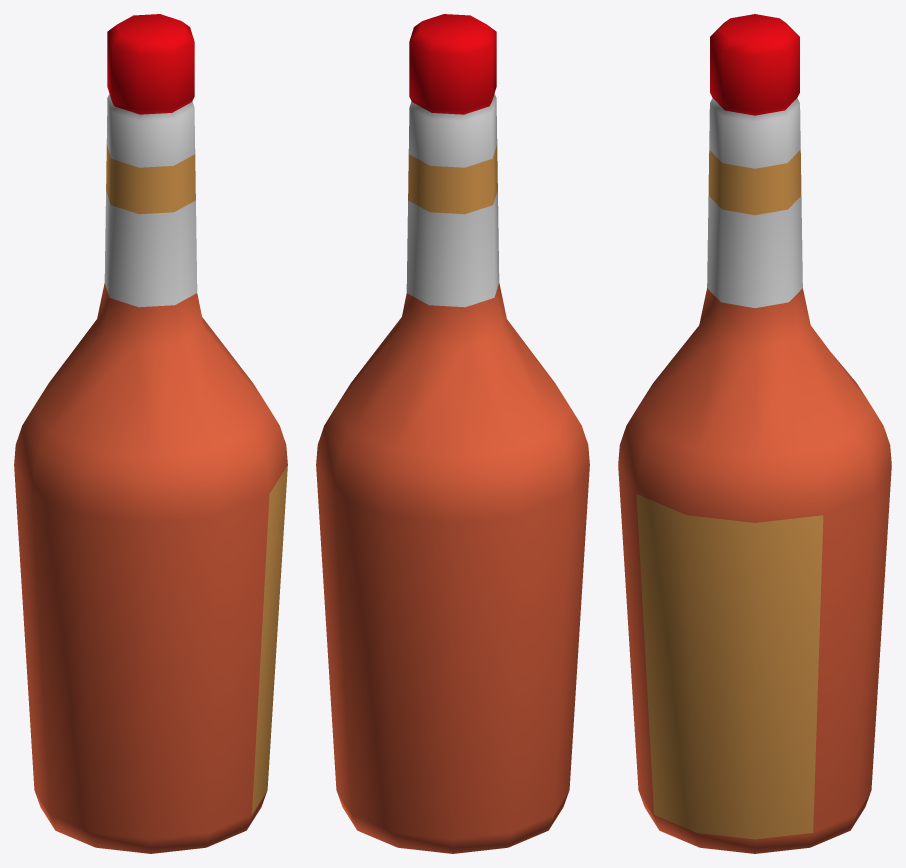
File: OrangePin.fbx
3 views of the same model, side by side, from view 1: azimuth 30°, elevation 25°; view 2: azimuth 150°, elevation 25°; view 3: azimuth 270°, elevation 25° (orthographic).
Parts seen in each view (by area): view 1: OrangePin; view 2: OrangePin; view 3: OrangePin.
Boxes of the visible parts, left/top/right/bottom form: OrangePin: left=14, top=14, right=287, bottom=853; OrangePin: left=316, top=14, right=589, bottom=853; OrangePin: left=618, top=14, right=891, bottom=853.
Size of the model in its own units: 8.56 by 27.12 by 8.56.
